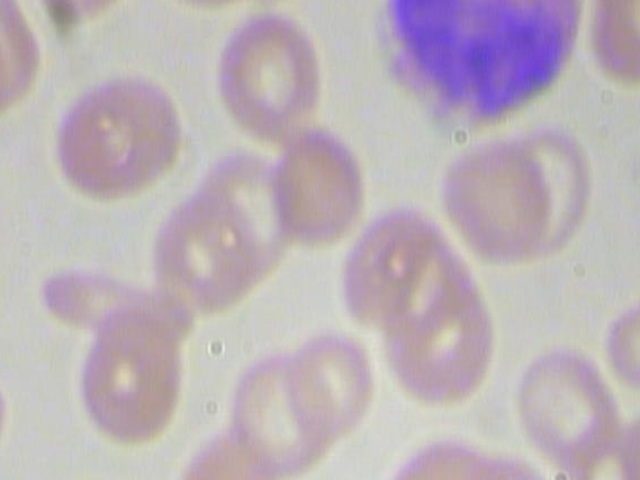RBC: (50, 68, 200, 204), (434, 128, 562, 265), (60, 306, 188, 443), (207, 3, 332, 142), (221, 346, 349, 480), (508, 330, 623, 464), (262, 124, 376, 259), (594, 261, 640, 394), (30, 0, 144, 43)
WBC: (361, 0, 591, 142)
